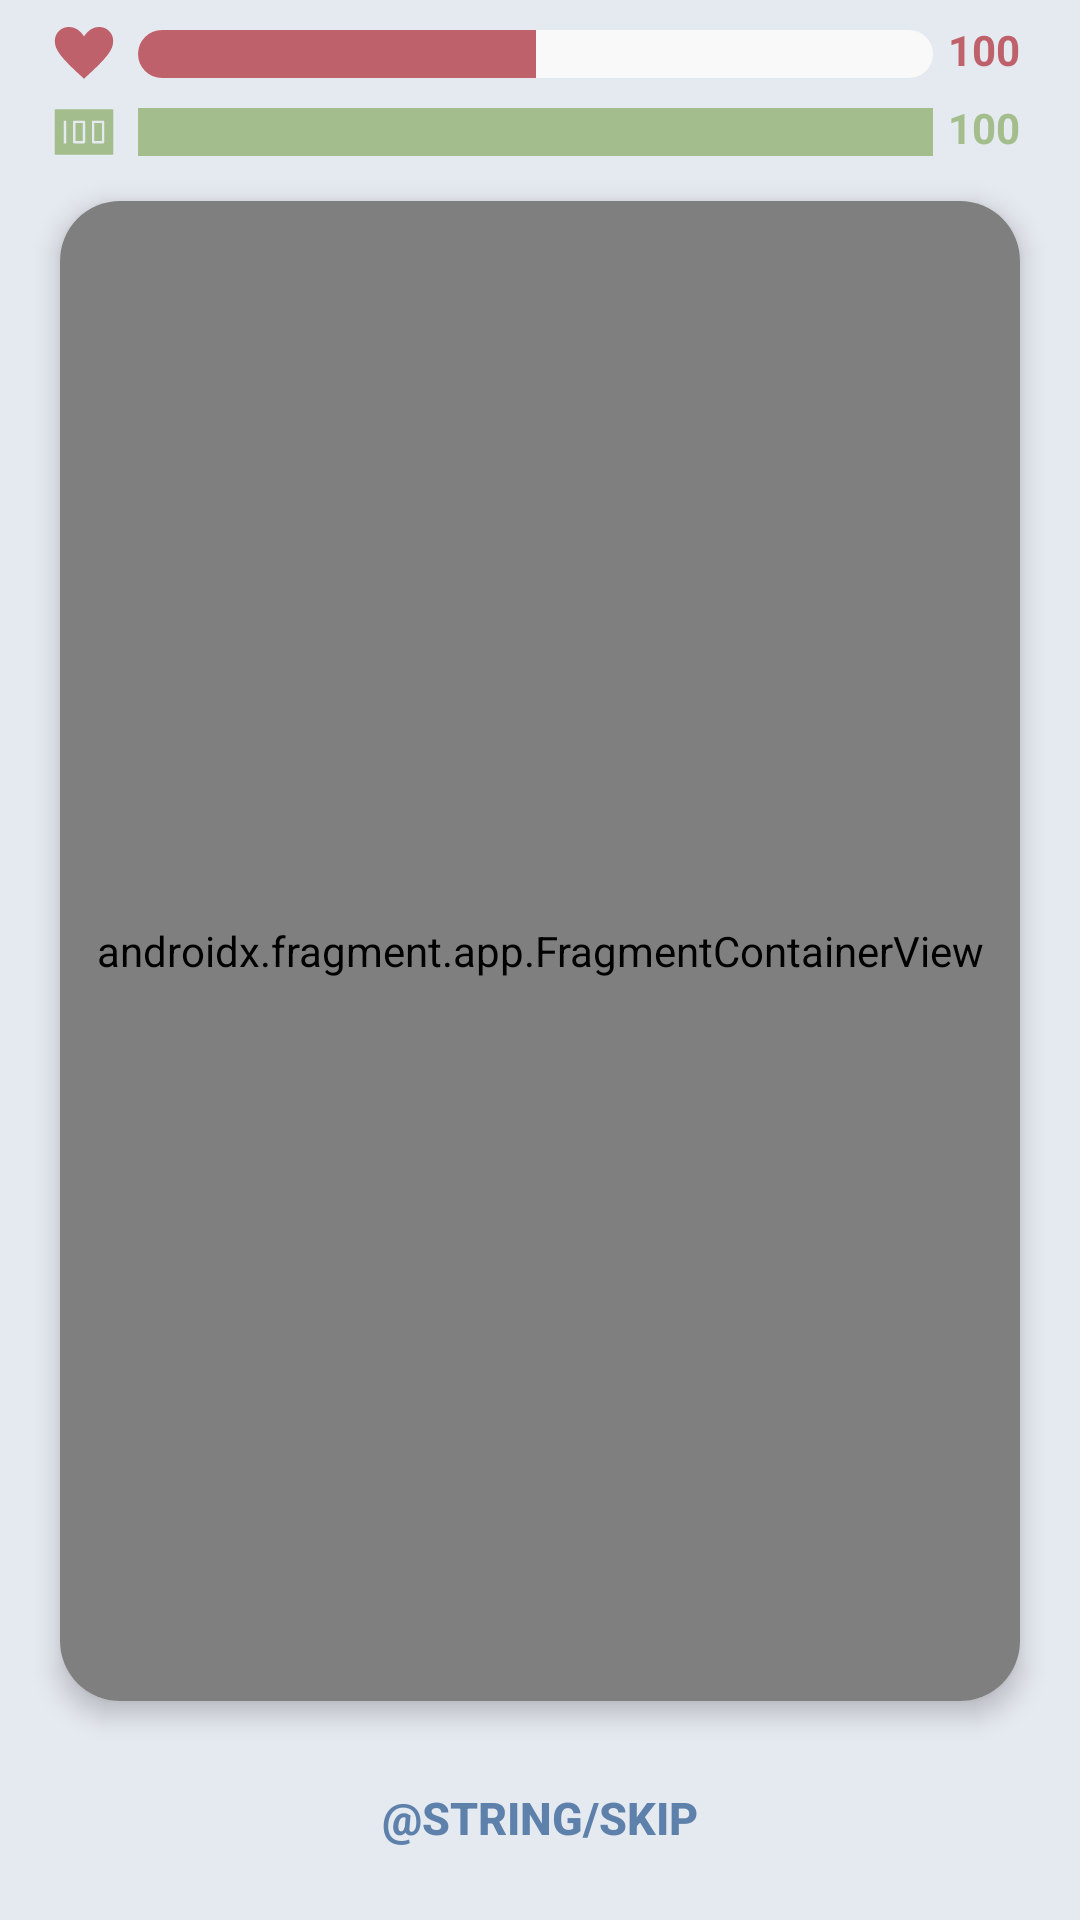

Icons on this 1080 x 1920 Android screen, each with its box as (x1, y1, x2, y2):
heart: (54, 27, 113, 79)
